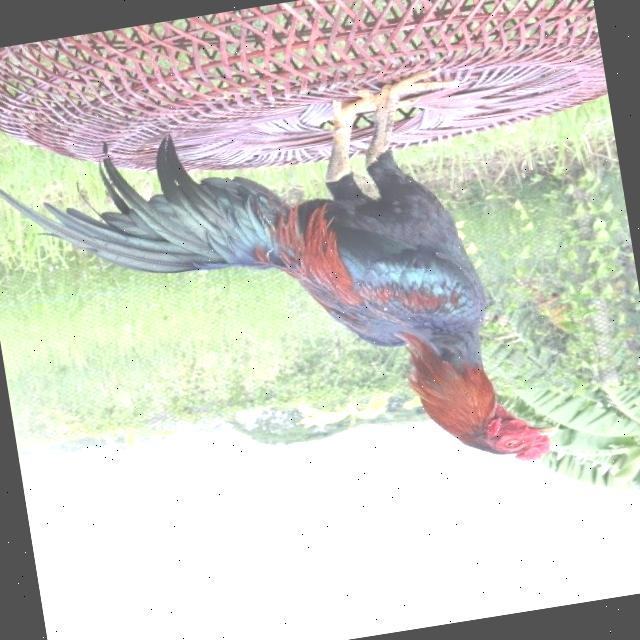Healthy: (0, 39, 603, 553), (0, 86, 333, 330), (447, 384, 566, 478)
